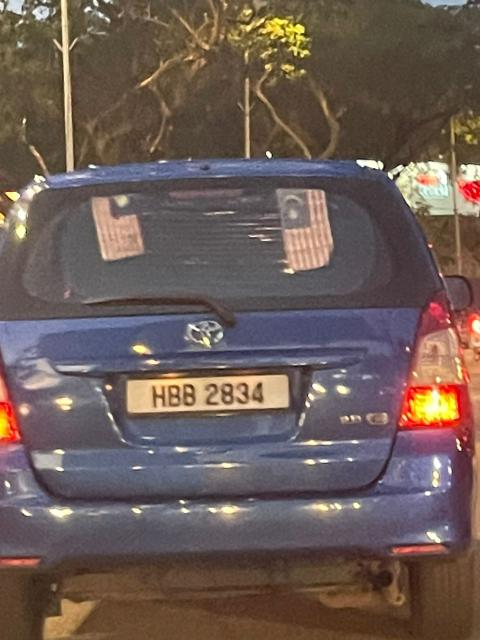License_Plate: (128, 375, 284, 417)
car: (5, 154, 480, 623)
